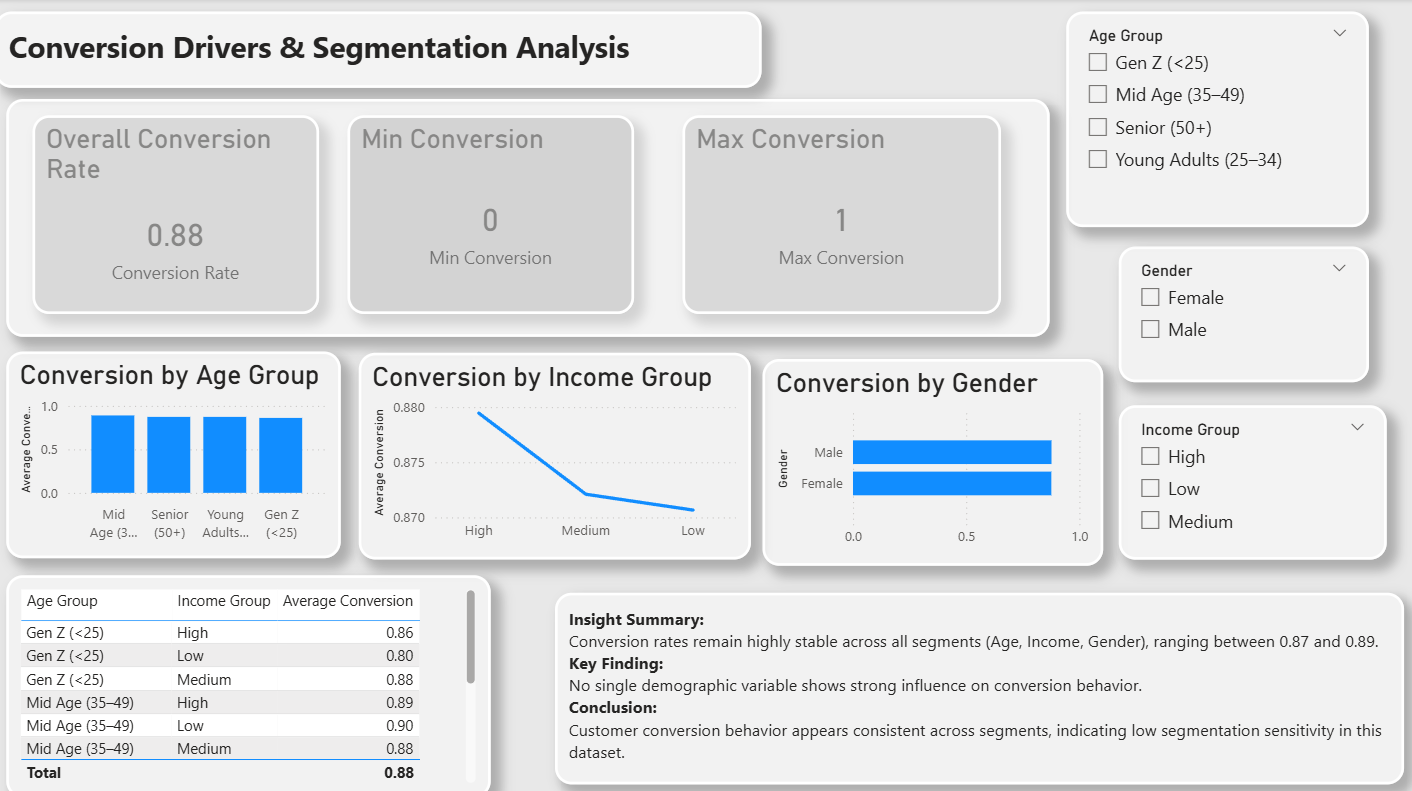

What the dashboard file says about the page in this screenshot:
{"tool":"powerbi","page":{"name":"Conversion Drivers & Segmentation Analysis","canvas":[1280,720],"ordinal":1},"visuals":[{"type":"card","title":"Overall Conversion Rate","fields":{"Values":["digital marketing campaign dataset.Conversion Rate"]},"box":[33.8,105.2,258.1,179.1],"z":0},{"type":"card","title":"Max Conversion","fields":{"Values":["digital marketing campaign dataset.Max Conversion"]},"box":[620.1,105.2,286.9,179.1],"z":1000},{"type":"textbox","box":[0,11.3,691.5,68.9],"z":2000},{"type":"card","title":"Min Conversion","fields":{"Values":["digital marketing campaign dataset.Min Conversion"]},"box":[318.2,105.2,258.1,179.1],"z":3000},{"type":"textbox","box":[10,90.2,940.8,214.2],"z":4000},{"type":"clusteredColumnChart","title":" Conversion by Age Group","fields":{"Category":["digital marketing campaign dataset.Age Group"],"Y":["digital marketing campaign dataset.Average Conversion"]},"box":[10,318.2,301.9,186.7],"z":5000},{"type":"lineChart","title":" Conversion by Income Group","fields":{"Category":["digital marketing campaign dataset.Income Group"],"Y":["digital marketing campaign dataset.Average Conversion"]},"box":[328.2,319.4,353.3,186.7],"z":6000},{"type":"clusteredBarChart","title":" Conversion by Gender","fields":{"Category":["digital marketing campaign dataset.Gender"],"Y":["digital marketing campaign dataset.Average Conversion"]},"box":[691.5,324.4,306.9,186.7],"z":7000},{"type":"tableEx","fields":{"Values":["digital marketing campaign dataset.Age Group","digital marketing campaign dataset.Income Group","digital marketing campaign dataset.Average Conversion"]},"box":[10,519.9,437.2,200.4],"z":8000},{"type":"textbox","box":[504.8,534.9,765.4,172.9],"z":9000},{"type":"slicer","fields":{"Values":["digital marketing campaign dataset.Gender"]},"box":[1013.4,223,225.5,122.8],"z":10000},{"type":"slicer","fields":{"Values":["digital marketing campaign dataset.Age Group"]},"box":[965.8,11.3,273.1,194.2],"z":11000},{"type":"slicer","fields":{"Values":["digital marketing campaign dataset.Income Group"]},"box":[1013.4,365.8,241.8,139],"z":12000}]}

Visuals, with their boxes in screenshot pixels (x1, y1, x2, y2), scaled from the page's 1280x720 canvas onto the 1412x791 screenshot:
"Overall Conversion Rate" card: detection(37, 116, 322, 312)
"Max Conversion" card: detection(684, 116, 1001, 312)
textbox: detection(0, 12, 763, 88)
"Min Conversion" card: detection(351, 116, 636, 312)
textbox: detection(11, 99, 1049, 334)
" Conversion by Age Group" clusteredColumnChart: detection(11, 350, 344, 555)
" Conversion by Income Group" lineChart: detection(362, 351, 752, 556)
" Conversion by Gender" clusteredBarChart: detection(763, 356, 1101, 562)
tableEx - digital marketing campaign dataset.Age Group x digital marketing campaign dataset.Income Group: detection(11, 571, 493, 790)
textbox: detection(557, 588, 1401, 778)
slicer - digital marketing campaign dataset.Gender: detection(1118, 245, 1367, 380)
slicer - digital marketing campaign dataset.Age Group: detection(1065, 12, 1367, 226)
slicer - digital marketing campaign dataset.Income Group: detection(1118, 402, 1385, 555)
